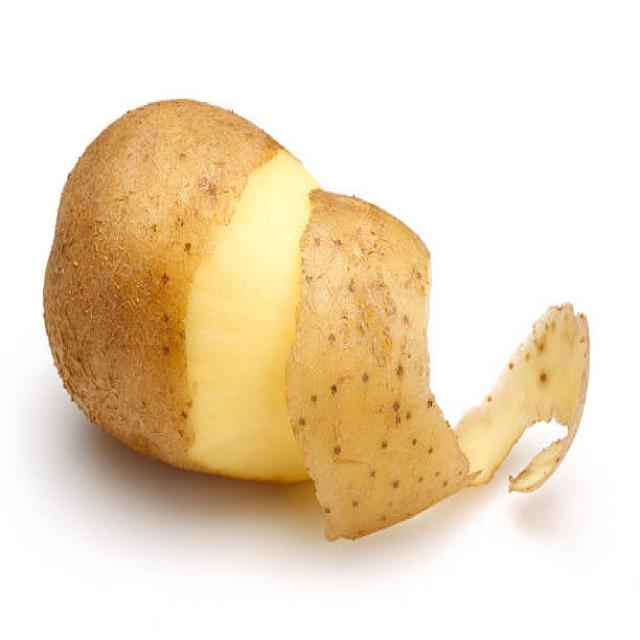Potato: (35, 91, 432, 496)
